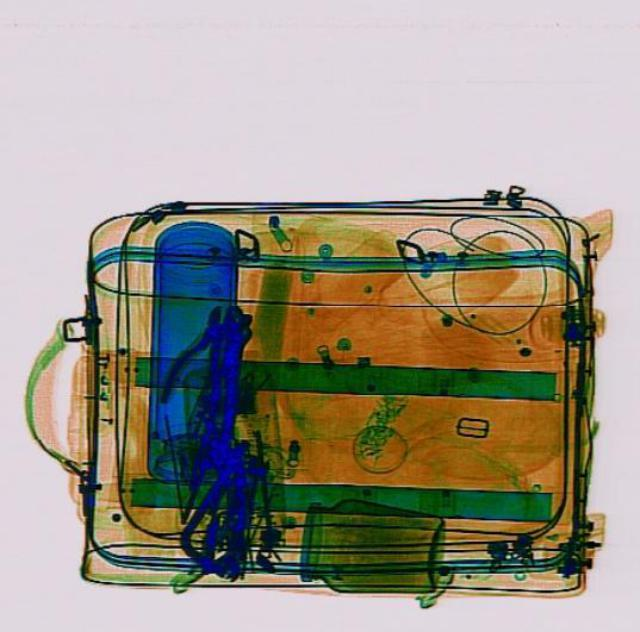Pliers: (152, 297, 252, 419)
